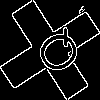Q: (25, 25, 87, 83)
